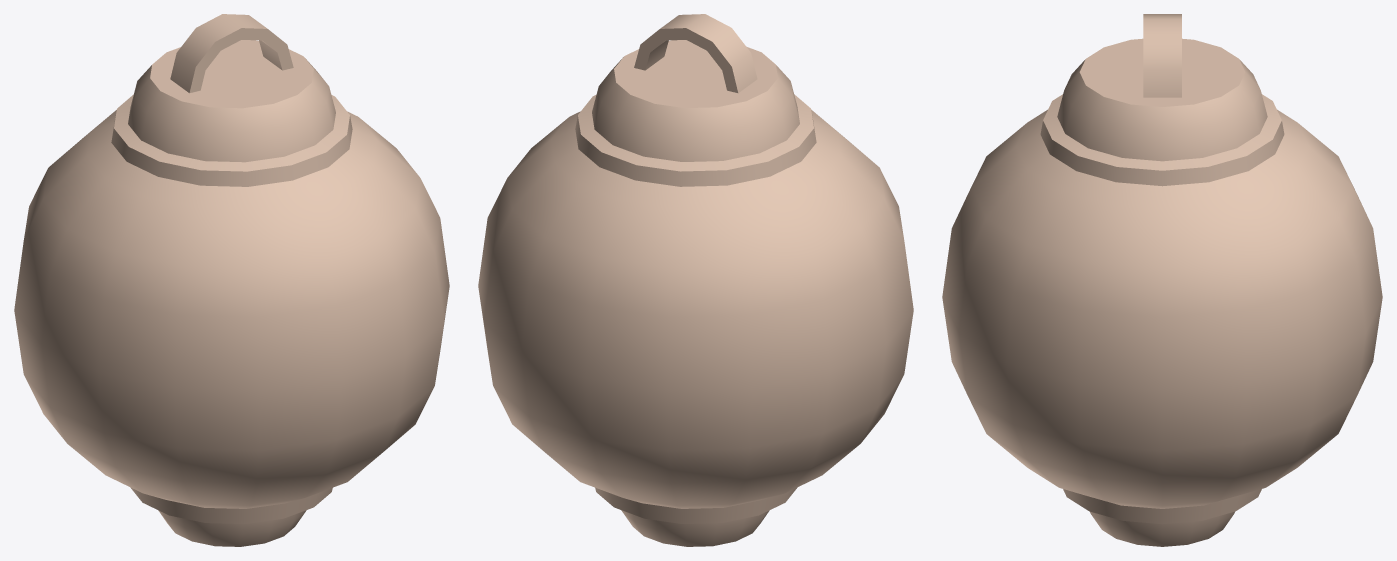
The model's file is lantern_02.fbx.
3 views of the same model, side by side, from view 1: azimuth 30°, elevation 25°; view 2: azimuth 150°, elevation 25°; view 3: azimuth 270°, elevation 25° (orthographic).
Visible parts, largest first — view 1: lantern_02; view 2: lantern_02; view 3: lantern_02.
Part boxes in pixels (x1=…): lantern_02: x1=14, y1=14, x2=449, y2=546; lantern_02: x1=478, y1=14, x2=913, y2=546; lantern_02: x1=942, y1=14, x2=1382, y2=546.
Size of the model in its own units: 45.65 by 57.16 by 45.65.
